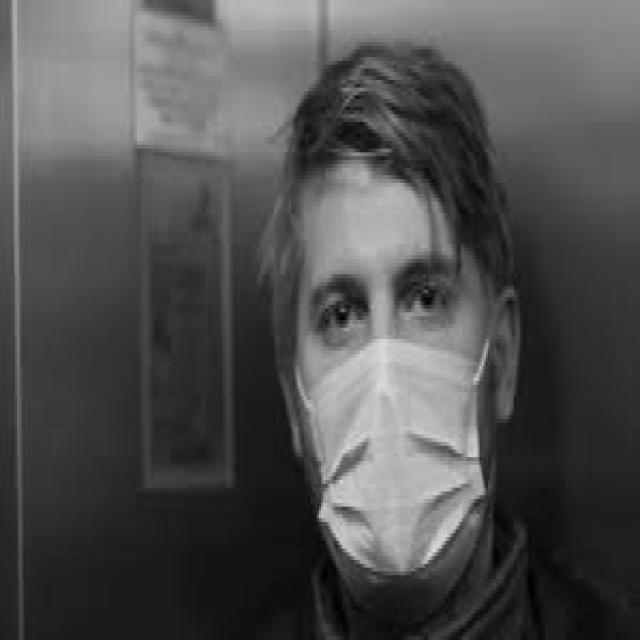fake: (303, 335, 487, 619)
real: (293, 165, 499, 629)
